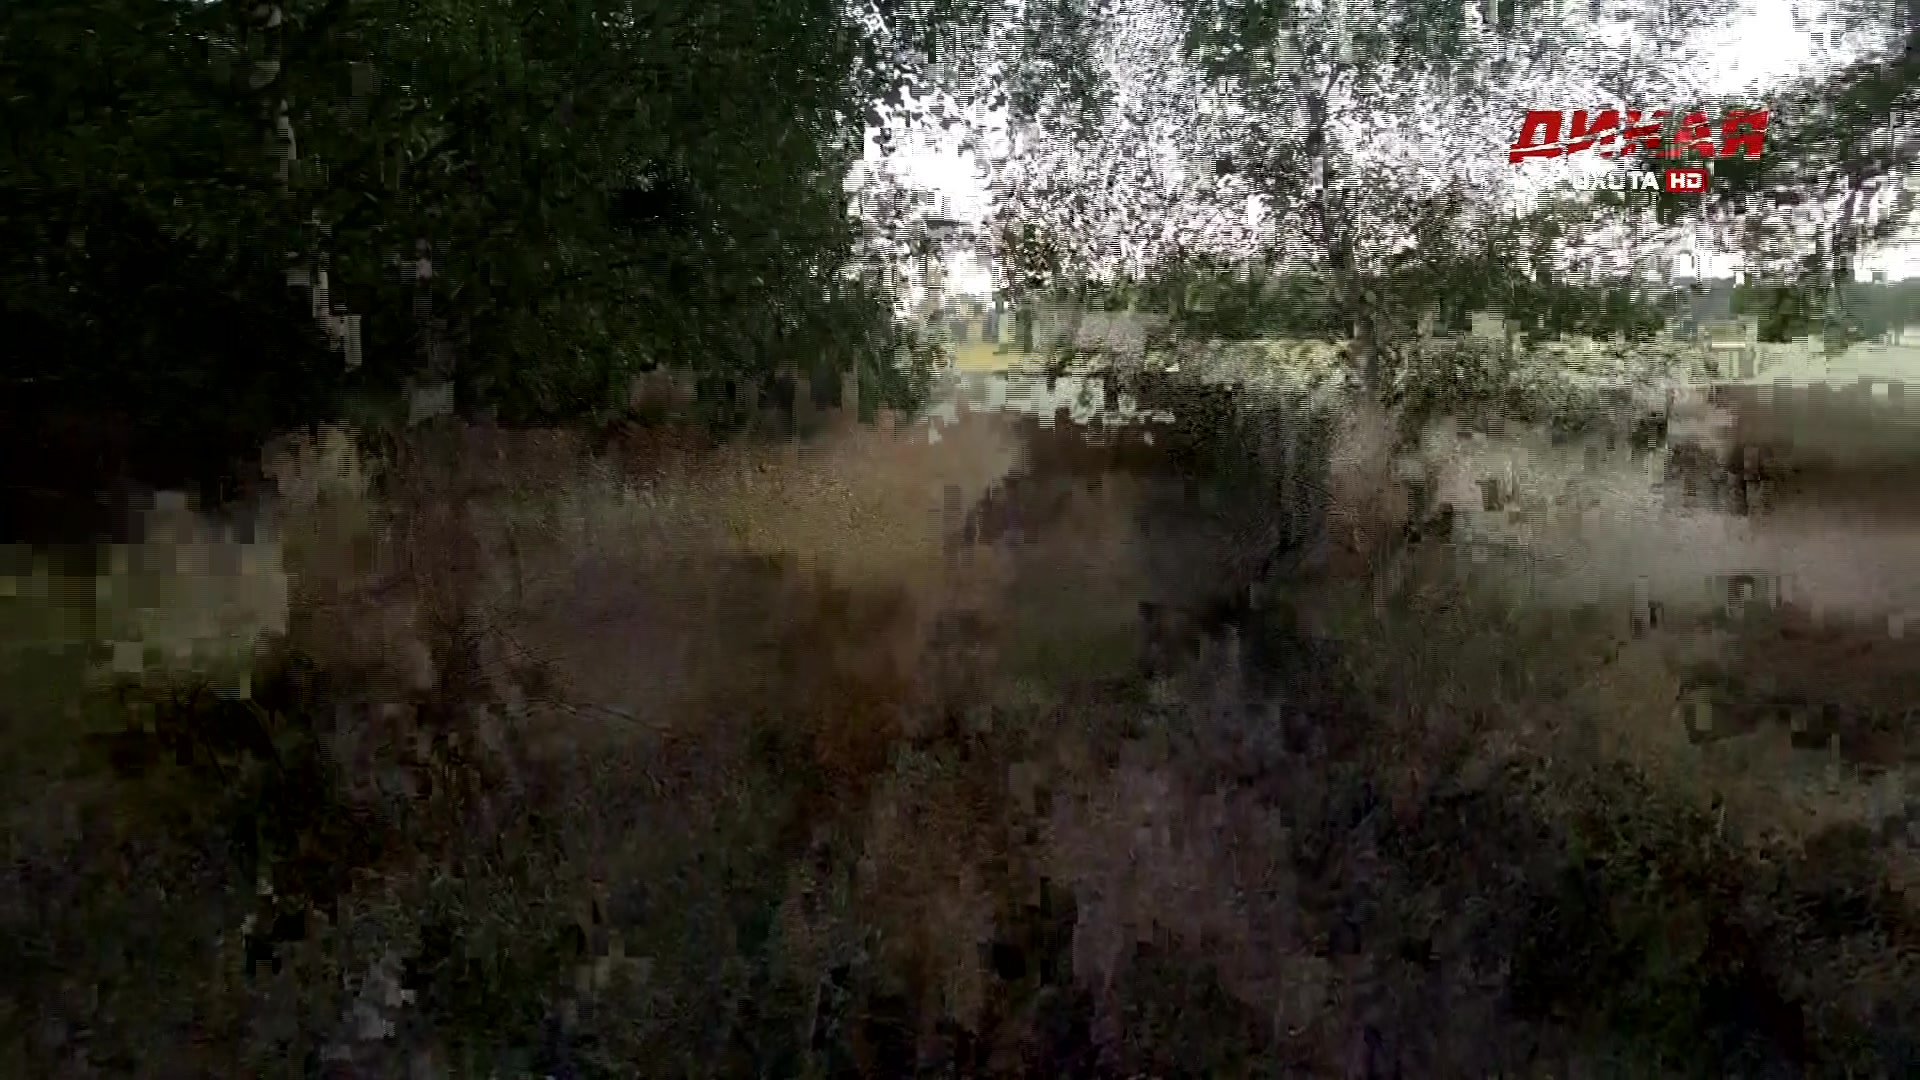Dikaya_Ohota_HD: (1507, 105, 1778, 196)
